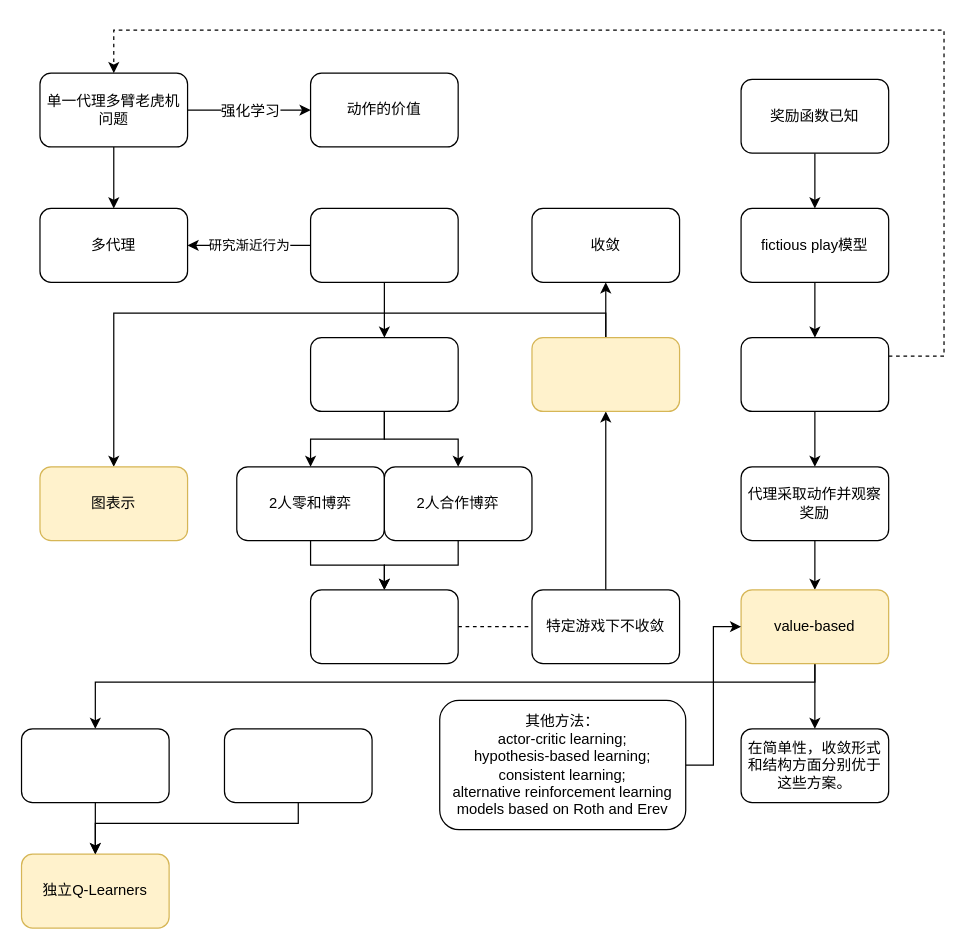
This 975x950 diagram has some shape labels left out. The box of each missing label's shape, as (x1, y1, x2, y2) in pixels:
动力系统: (309, 336, 458, 411)
均衡: (309, 589, 458, 664)
柔性最佳回应: (20, 728, 169, 803)
玩家依赖学习速率: (531, 336, 680, 411)
研究新模型: (740, 336, 889, 411)
随机优化: (223, 728, 372, 803)
随机逼近的ODE方法: (309, 207, 458, 282)
